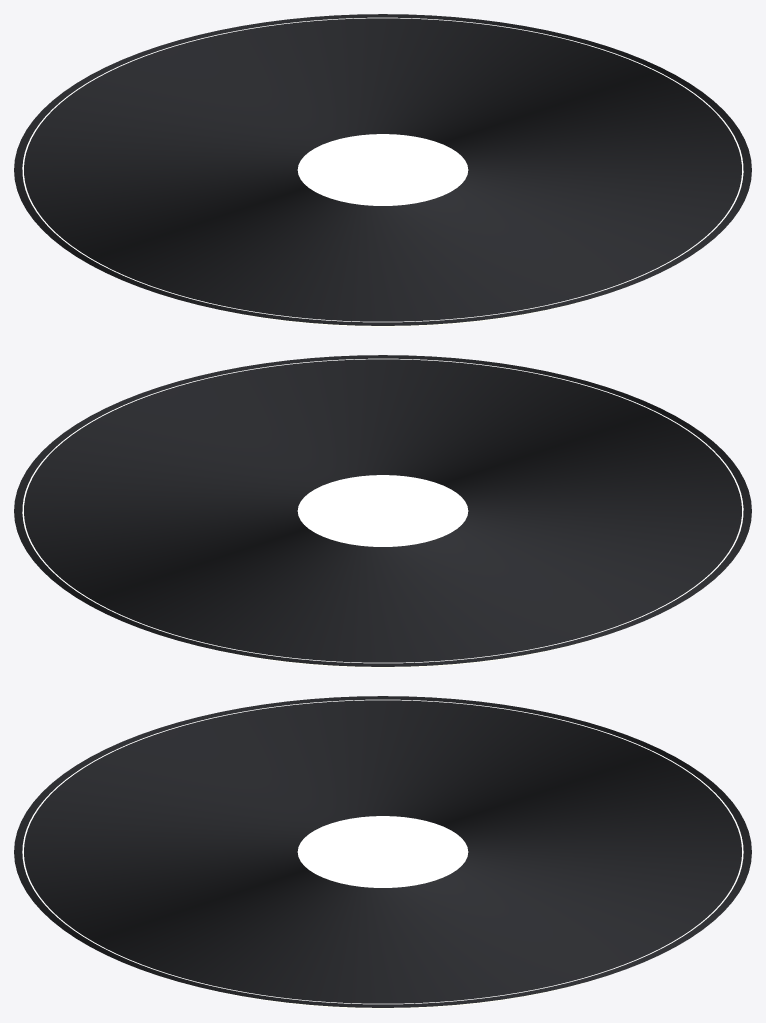
The model's file is ufo_belly_amber.glb.
3 views of the same model, one above another, from view 1: azimuth 30°, elevation 25°; view 2: azimuth 150°, elevation 25°; view 3: azimuth 270°, elevation 25° (orthographic).
Parts seen in each view (by area): view 1: ufo_belly_amber; view 2: ufo_belly_amber; view 3: ufo_belly_amber.
Part boxes in pixels (<box>): ufo_belly_amber: <box>14,14,751,326</box>; ufo_belly_amber: <box>14,355,751,667</box>; ufo_belly_amber: <box>14,696,751,1008</box>.
Bounding box in the file's own units: 242 × 7.56 × 242.
